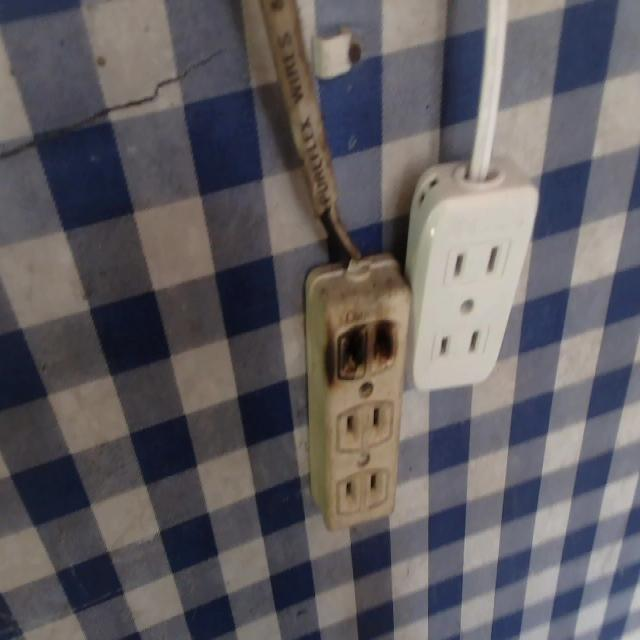-: (319, 299, 409, 389)
